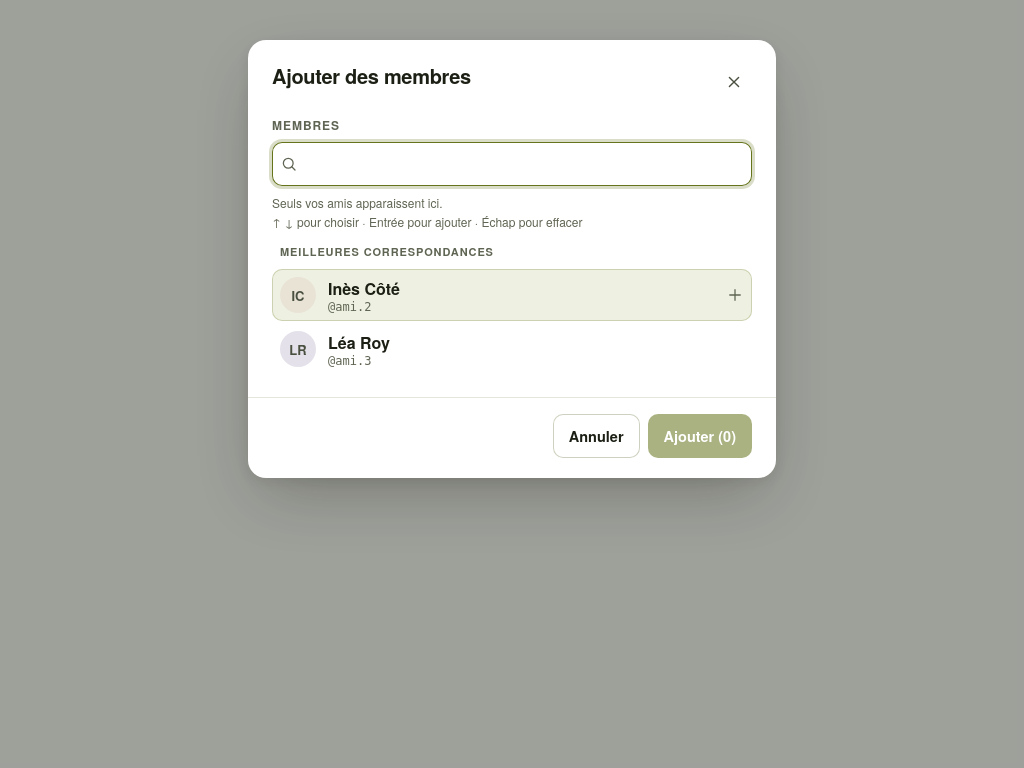
Test: features/add-group-members : Ajouter des membres (GRP-03, GRP-04, ADR 0041) › FRD-21, ADR 0041 (point 4) : après NOT_FRIENDS, l’ancien ami quitte la sélection avec la liste relue
Click the option "IC Inès Côté @ami.2" at (298,295), box [272,269,752,321]
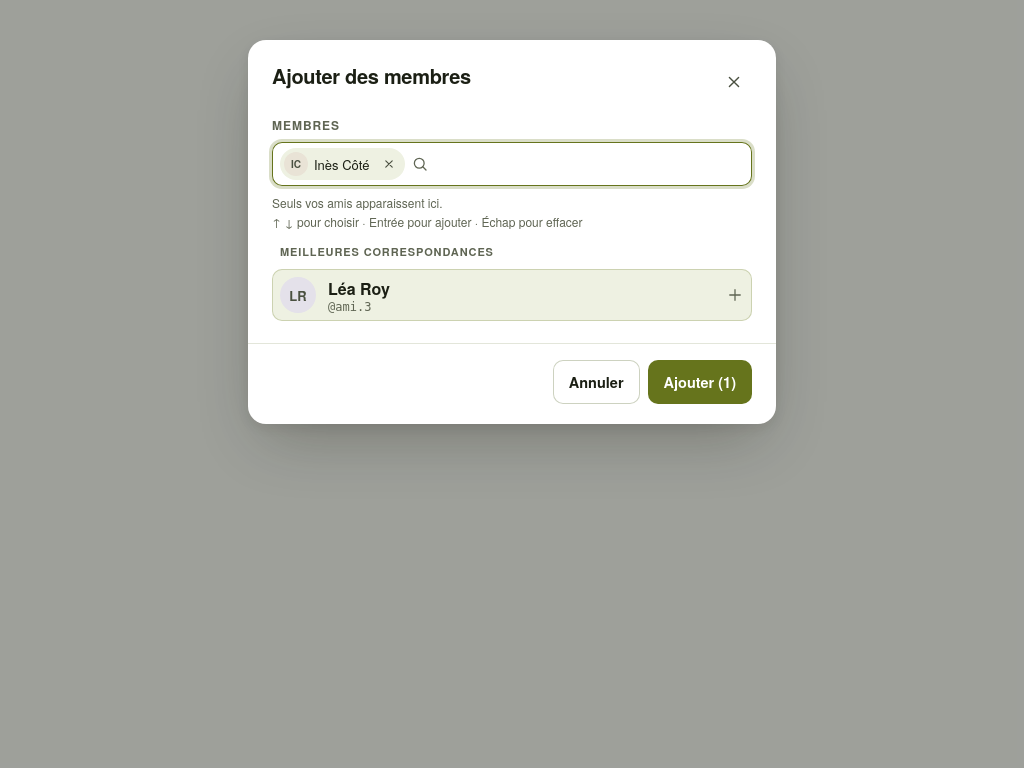
Click the option "LR Léa Roy @ami.3" at (298,295), box [272,269,752,321]
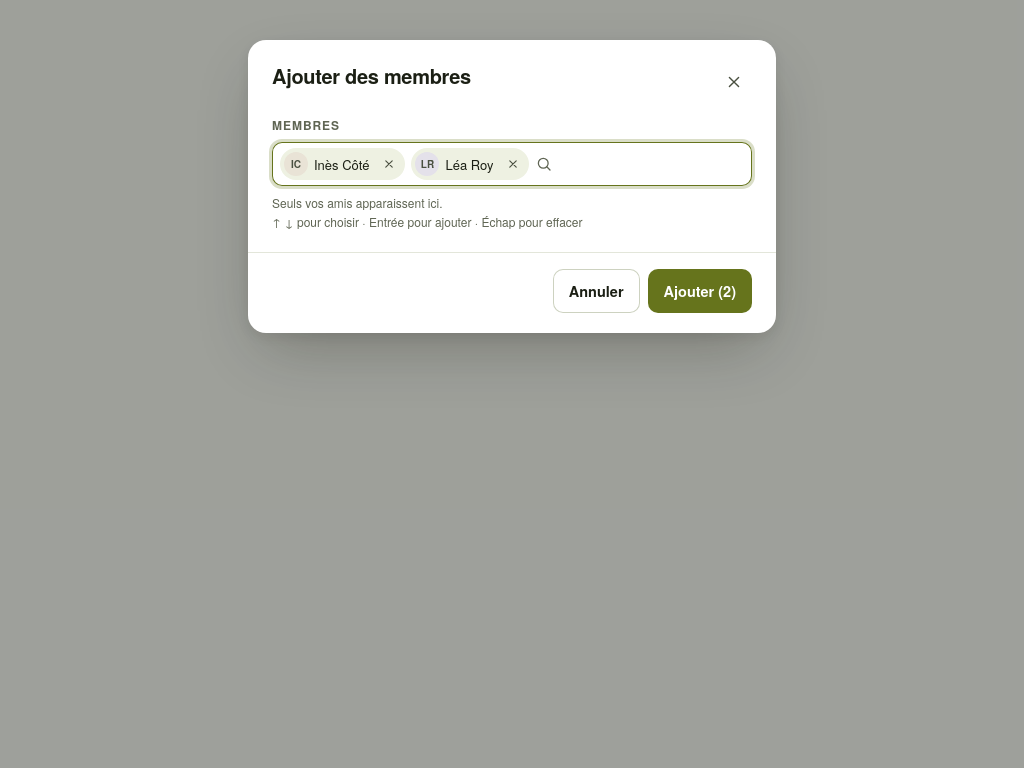
Click the button "Ajouter (2)" at (700,291), box [648,269,752,313]
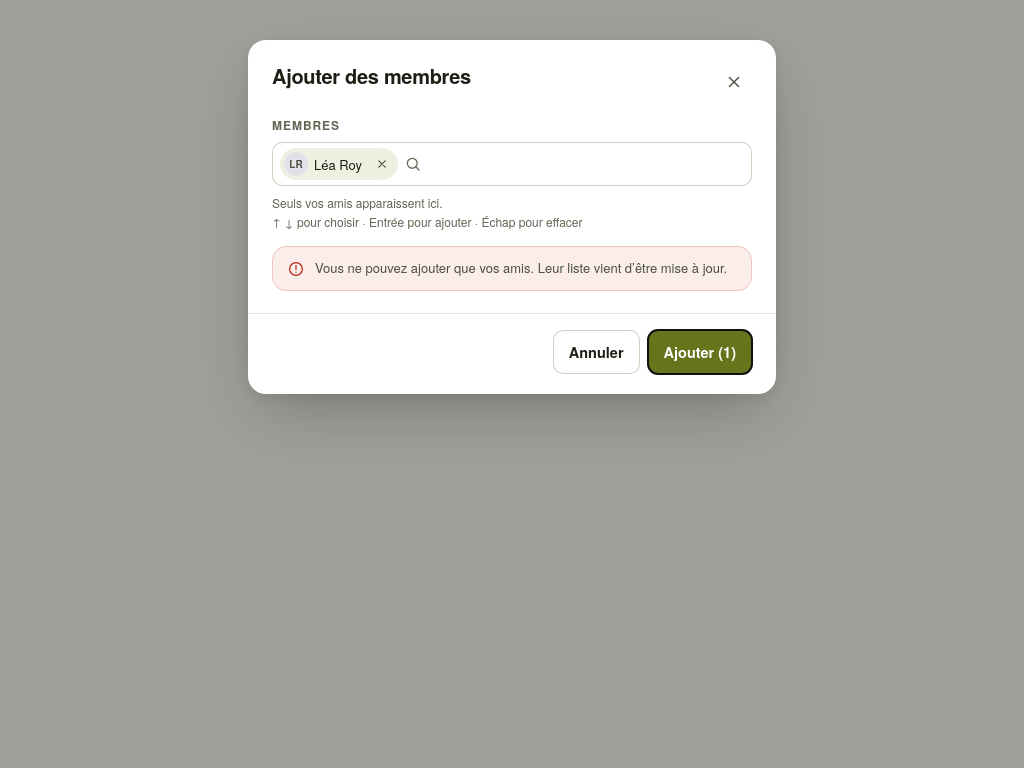
Expected: the message "Vous ne pouvez ajouter que vos amis. Leur liste vient d’être mise à jour." is shown, [272,246,752,291]
